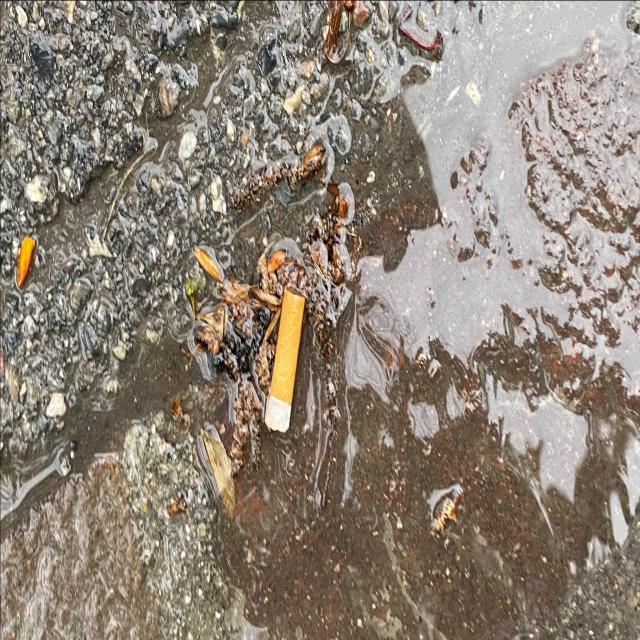other waste: (264, 285, 306, 435)
